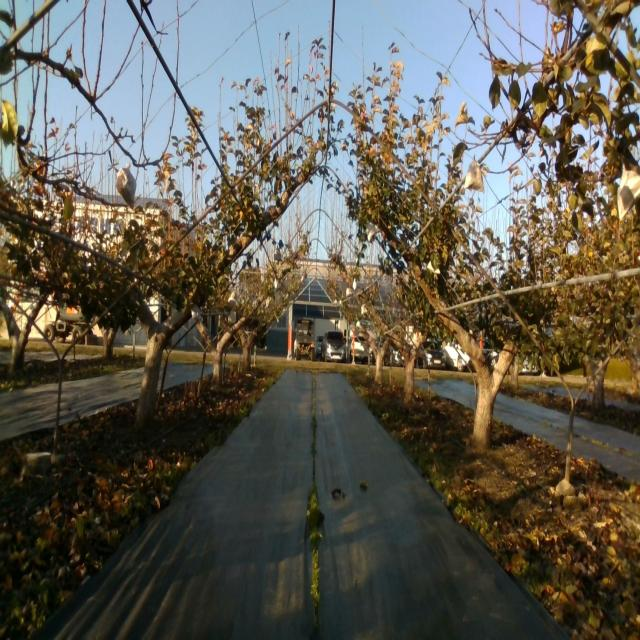pearbags: (615, 164, 640, 224), (115, 162, 137, 208), (464, 156, 486, 193), (366, 220, 379, 242)
